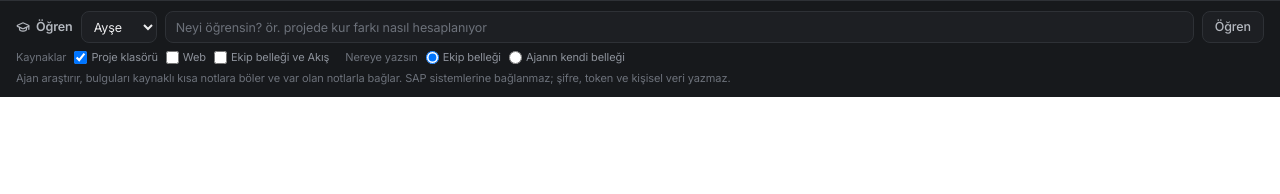
it: öğrenme görevi durumu › ajan çalışmıyorsa hata
Type "Kapanış" into the field named "Öğrenme konusu" at (679, 27), box [165, 11, 1194, 43]
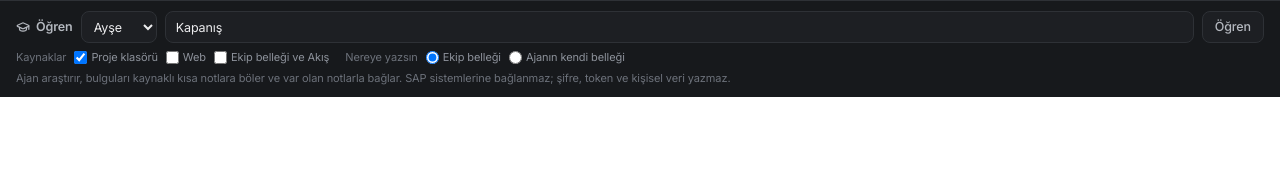
Press Enter in the field named "Öğrenme konusu", box [165, 11, 1194, 43]
Submit the form named "Öğrenme konusu", box [16, 11, 1264, 43]
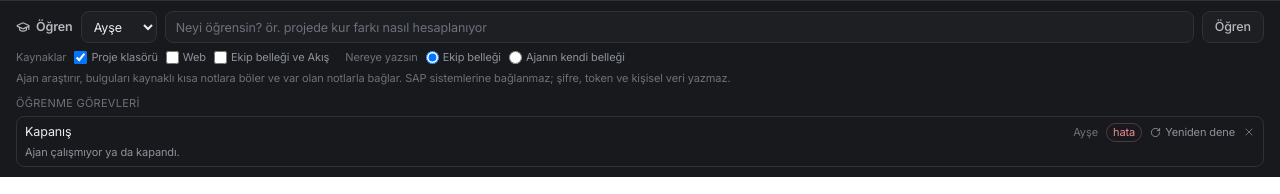
Expected: the text "Ajan çalışmıyor ya da kapandı." is shown, [25, 145, 180, 159]
